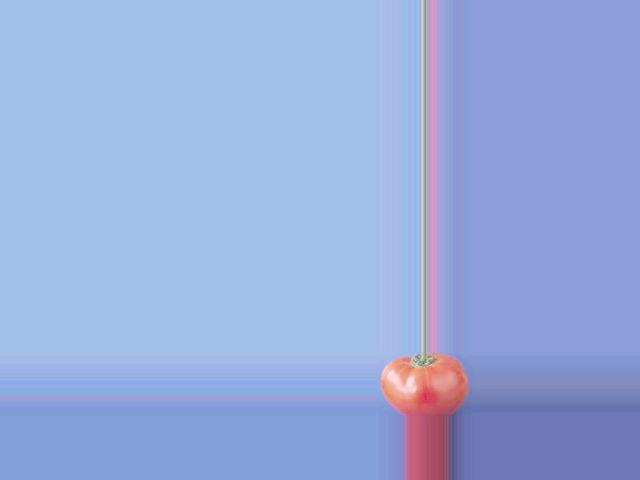tomato: (381, 352, 469, 417)
